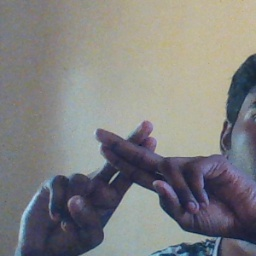F: (50, 113, 209, 238)
